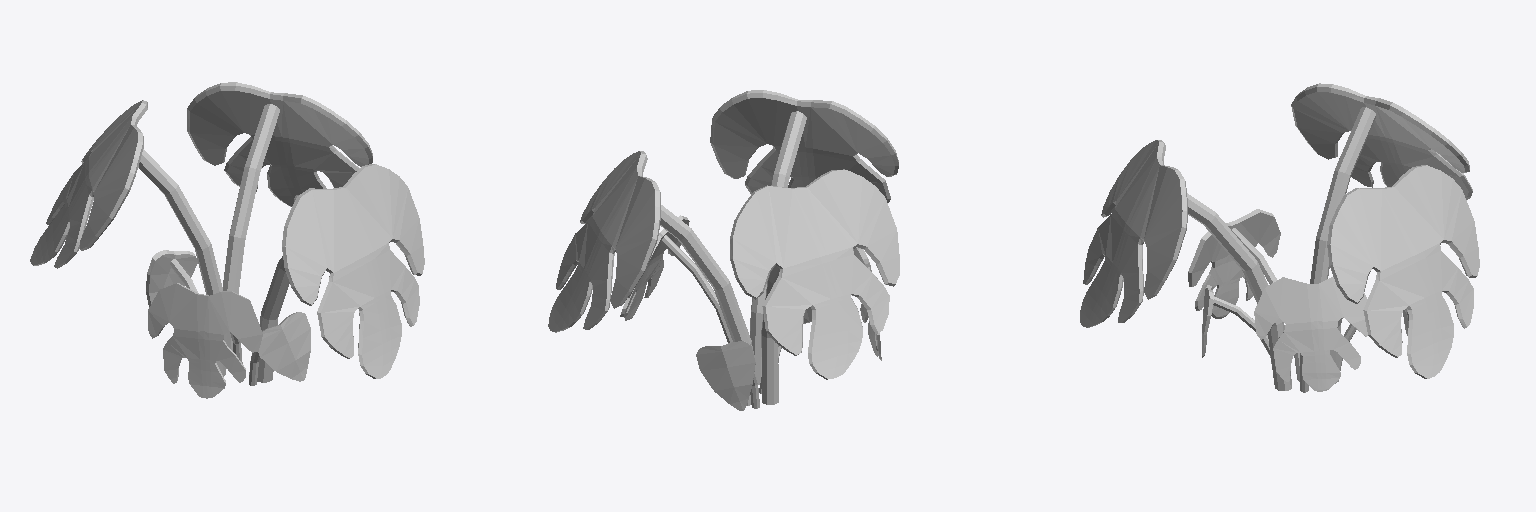
The model's file is monstera_plant_medium.obj.
3 renders of one model, left to right at view 1: azimuth 30°, elevation 25°; view 2: azimuth 150°, elevation 25°; view 3: azimuth 270°, elevation 25°, orthographic.
Visible parts, largest first — view 1: monstera_plant_medium; view 2: monstera_plant_medium; view 3: monstera_plant_medium.
Part boxes in pixels (x1,y1,x2,y2): monstera_plant_medium: (30,82,424,398); monstera_plant_medium: (548,90,899,410); monstera_plant_medium: (1080,83,1479,392).
Size of the model in its own units: 2.02 by 1.56 by 2.22.